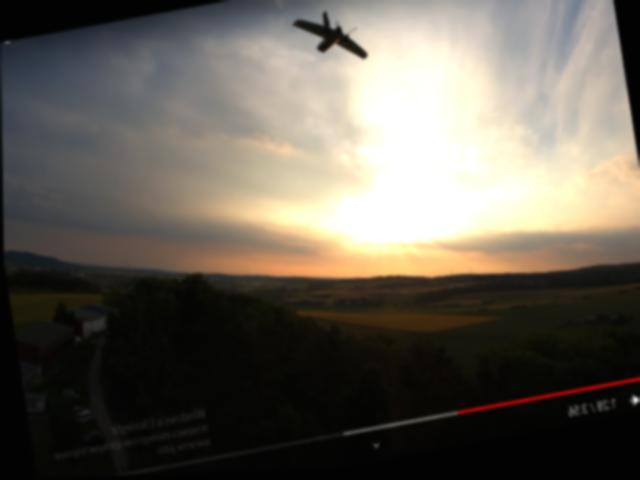plane: (291, 7, 368, 75)
